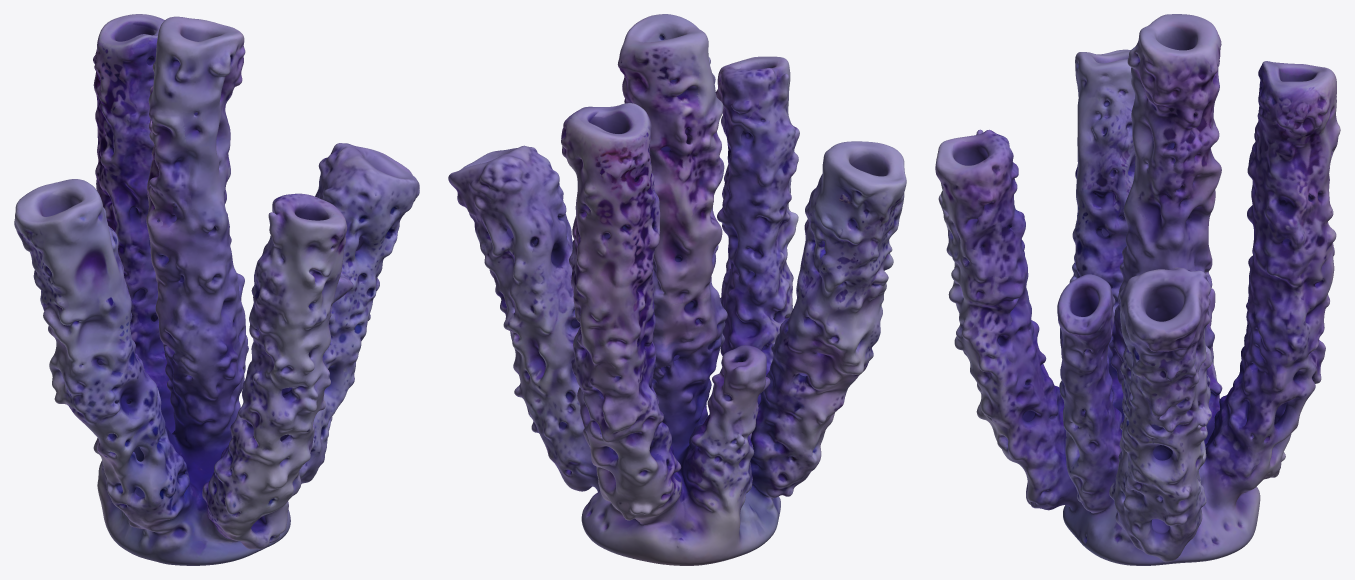
File: sponge_tube_cluster.glb
3 views of the same model, side by side, from view 1: azimuth 30°, elevation 25°; view 2: azimuth 150°, elevation 25°; view 3: azimuth 270°, elevation 25° (orthographic). The views are drawn at different scales.
Visible parts, largest first — view 1: tripo_node_05e22d20-f58e-4378-80dd-07042b1626fa; view 2: tripo_node_05e22d20-f58e-4378-80dd-07042b1626fa; view 3: tripo_node_05e22d20-f58e-4378-80dd-07042b1626fa.
Boxes of the visible parts, left/top/right/bottom form: tripo_node_05e22d20-f58e-4378-80dd-07042b1626fa: left=14, top=14, right=419, bottom=565; tripo_node_05e22d20-f58e-4378-80dd-07042b1626fa: left=448, top=14, right=906, bottom=565; tripo_node_05e22d20-f58e-4378-80dd-07042b1626fa: left=935, top=14, right=1340, bottom=565.
Bounding box in the file's own units: 0.8752 × 1 × 0.7192.
1 material, 1 textured.
